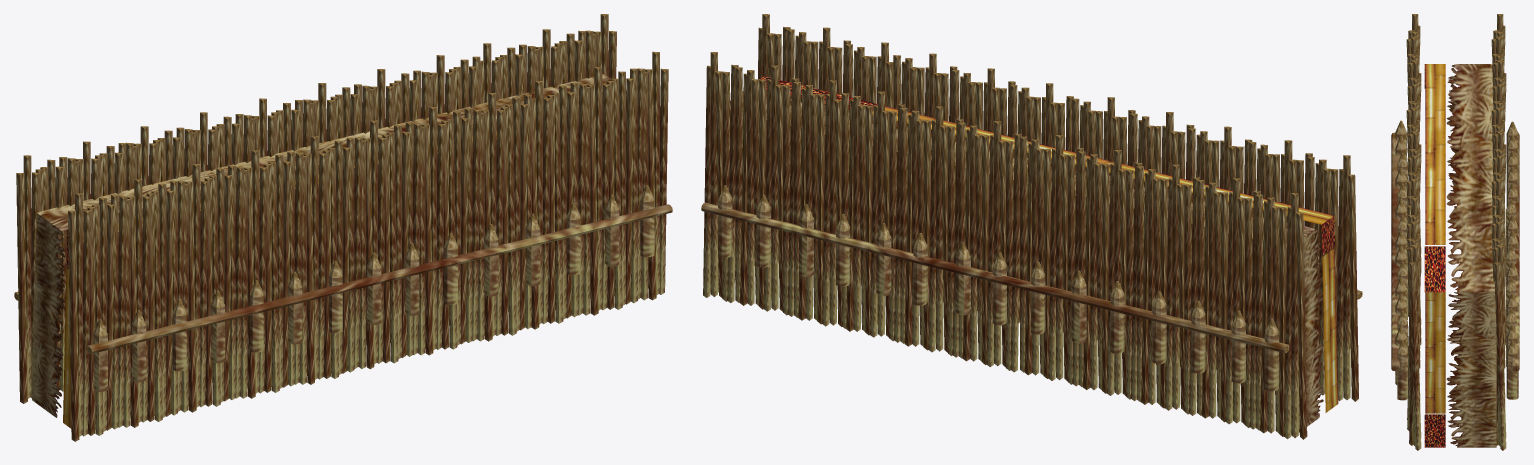
File: wall_long.dae
The picture shows the model from 3 angles, left to right: view 1: azimuth 30°, elevation 25°; view 2: azimuth 150°, elevation 25°; view 3: azimuth 270°, elevation 25°; orthographic projection. The views are drawn at different scales.
Parts seen in each view (by area): view 1: wall_long; view 2: wall_long; view 3: wall_long.
Boxes of the visible parts, <box> form: wall_long: <box>14,14,672,441</box>; wall_long: <box>701,14,1362,439</box>; wall_long: <box>1391,14,1519,450</box>.
Size of the model in its own units: 36.35 by 8.26 by 14.62.
